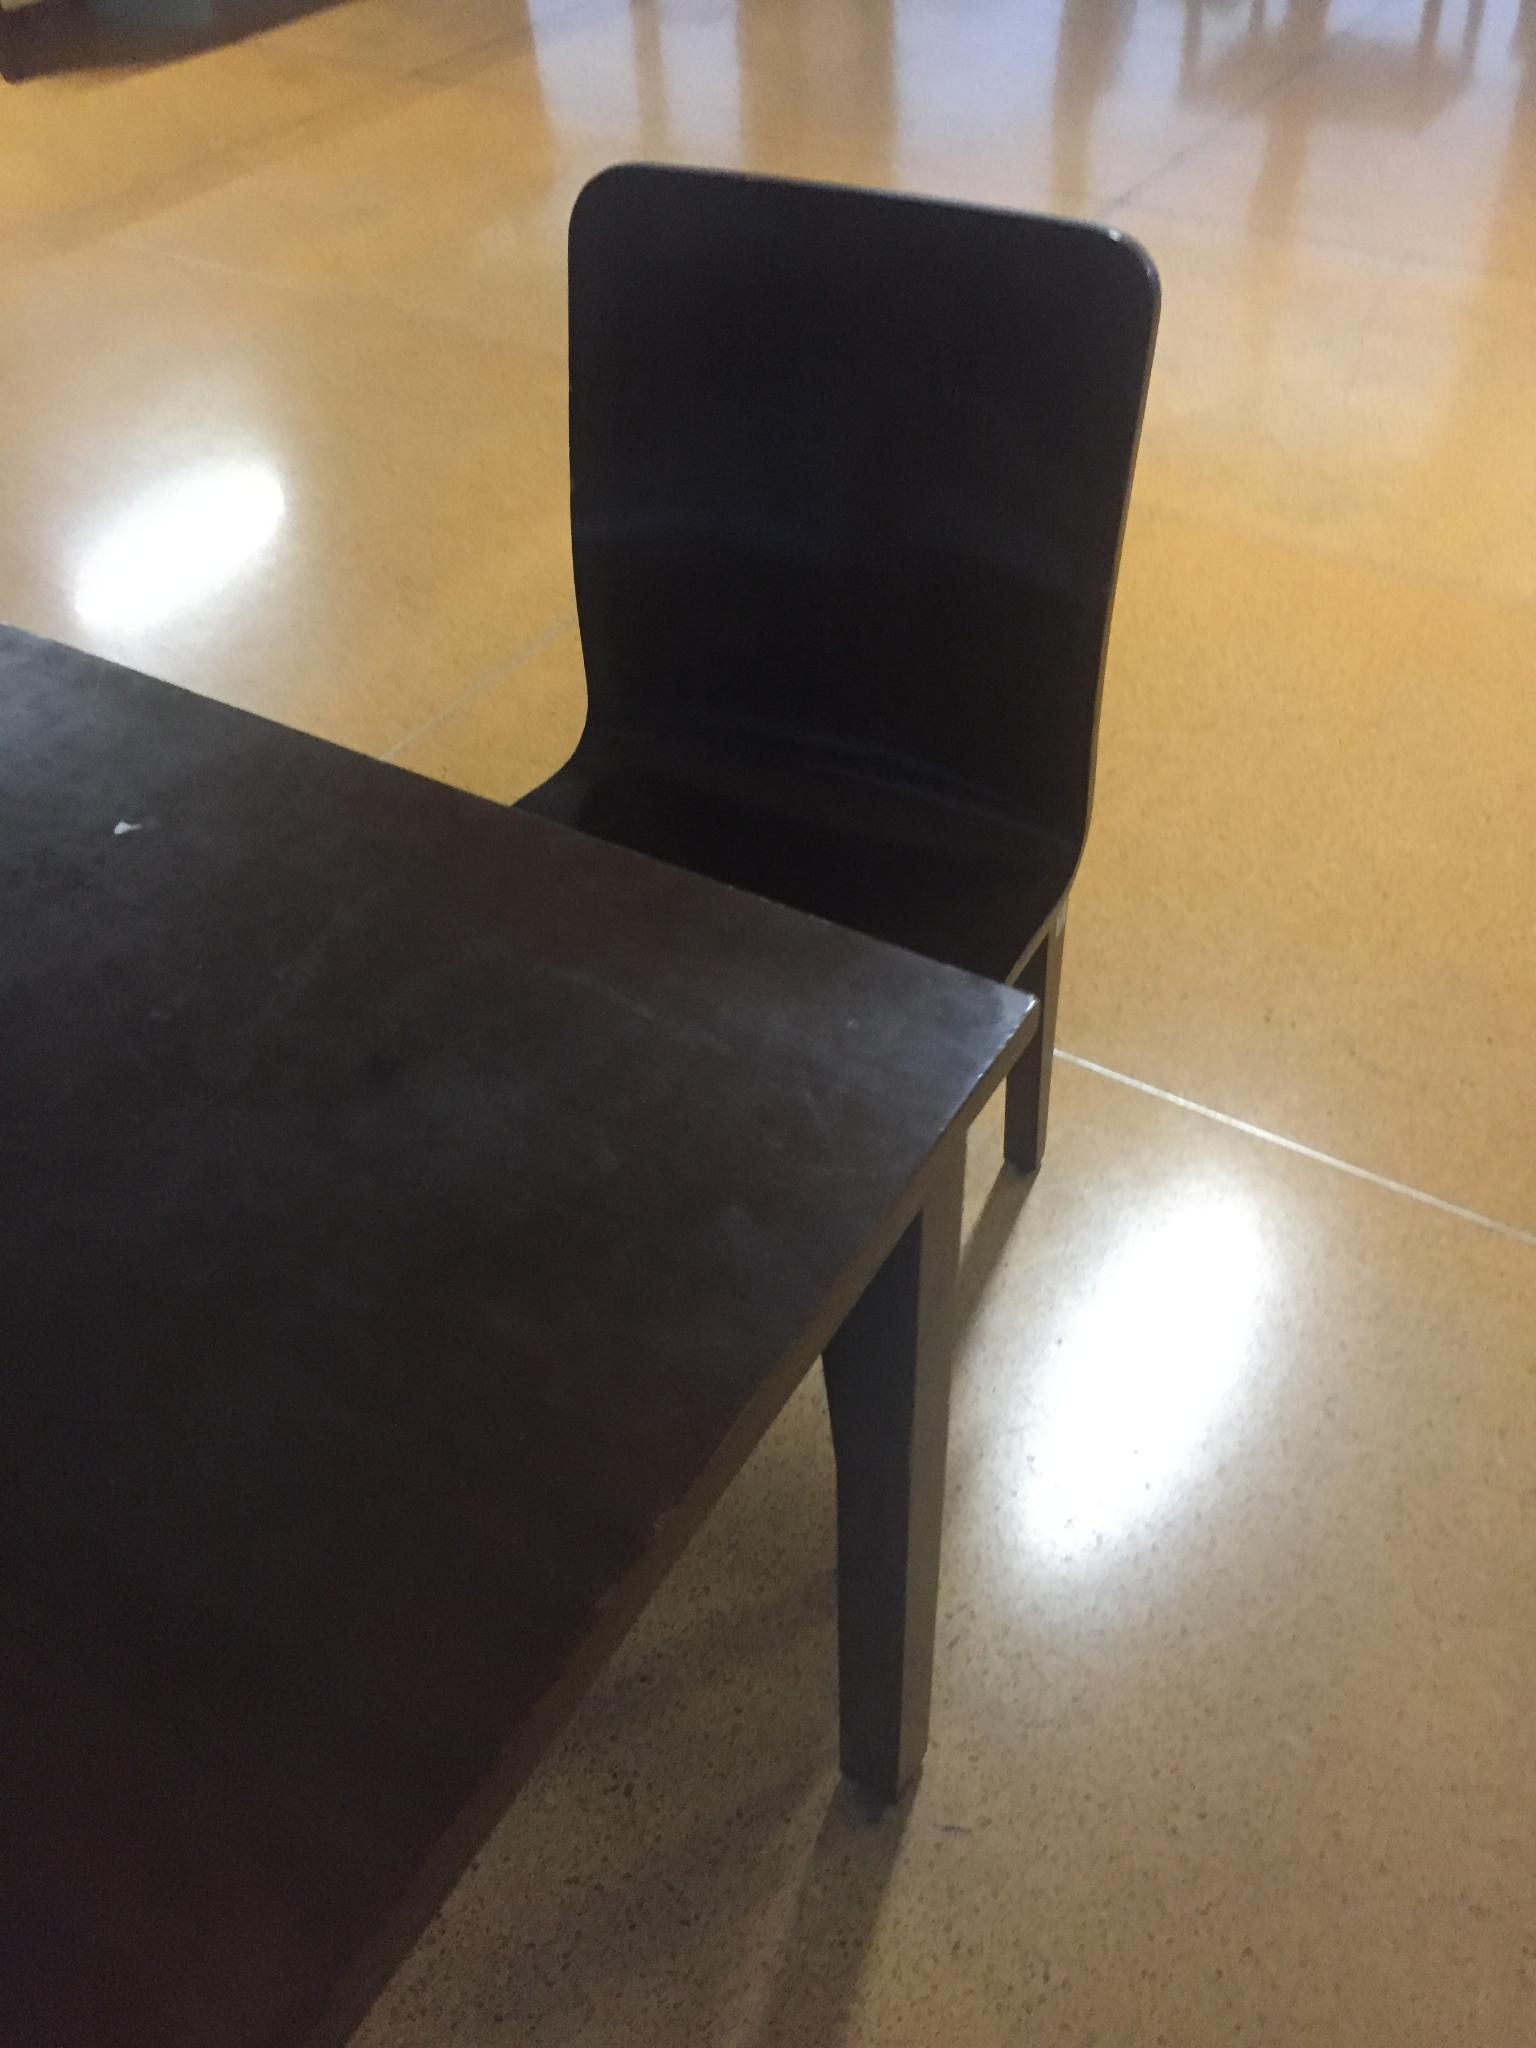chair: (413, 181, 1184, 1250)
